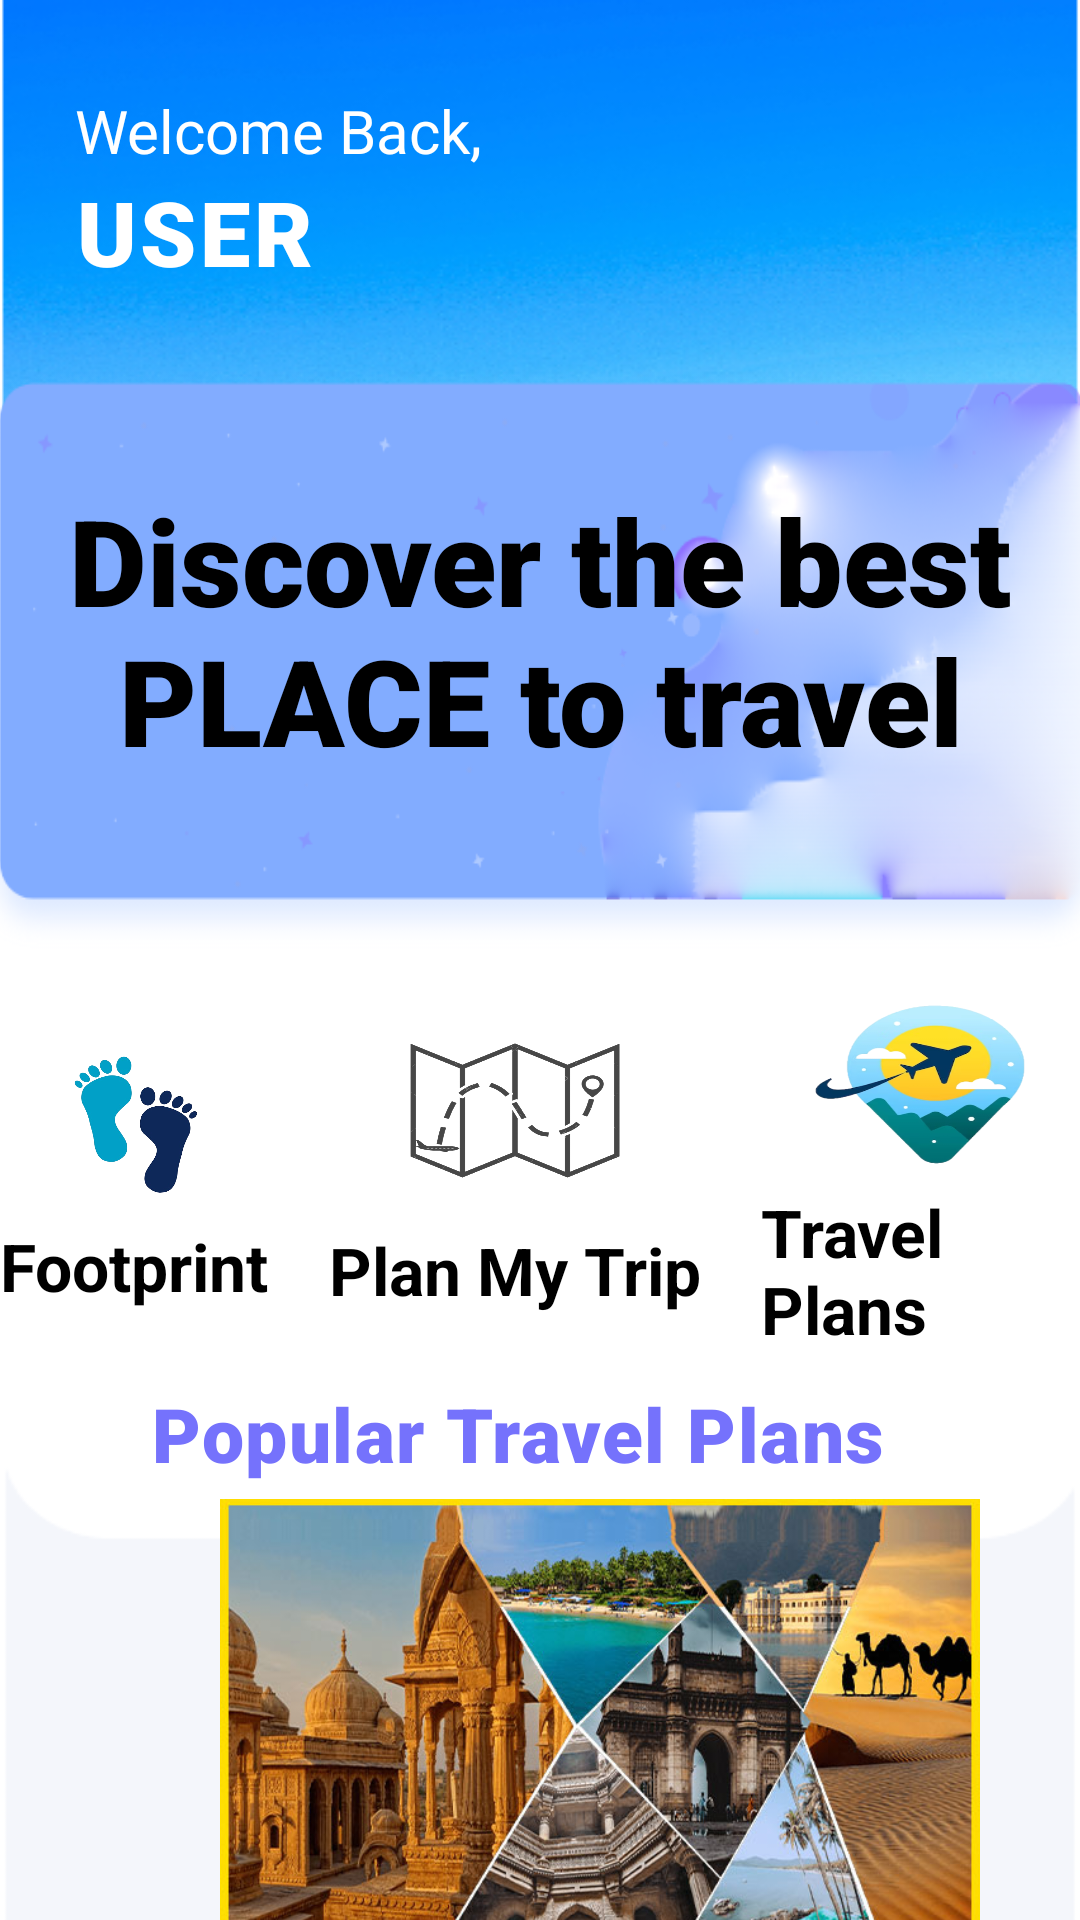

Icons on this 1080 × 1920 Android screen, each with its box as [left=x1, top=y1, right=x2, bottom=y2]:
footimg: [left=75, top=1056, right=197, bottom=1193]
